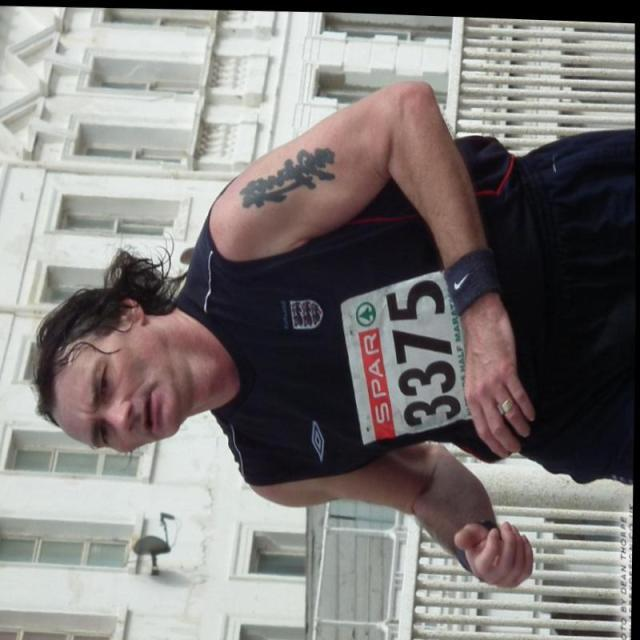dorsal: (330, 235, 484, 474)
